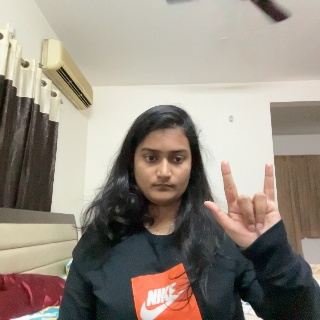Face: (132, 119, 192, 209)
I Love You: (205, 159, 286, 264)
